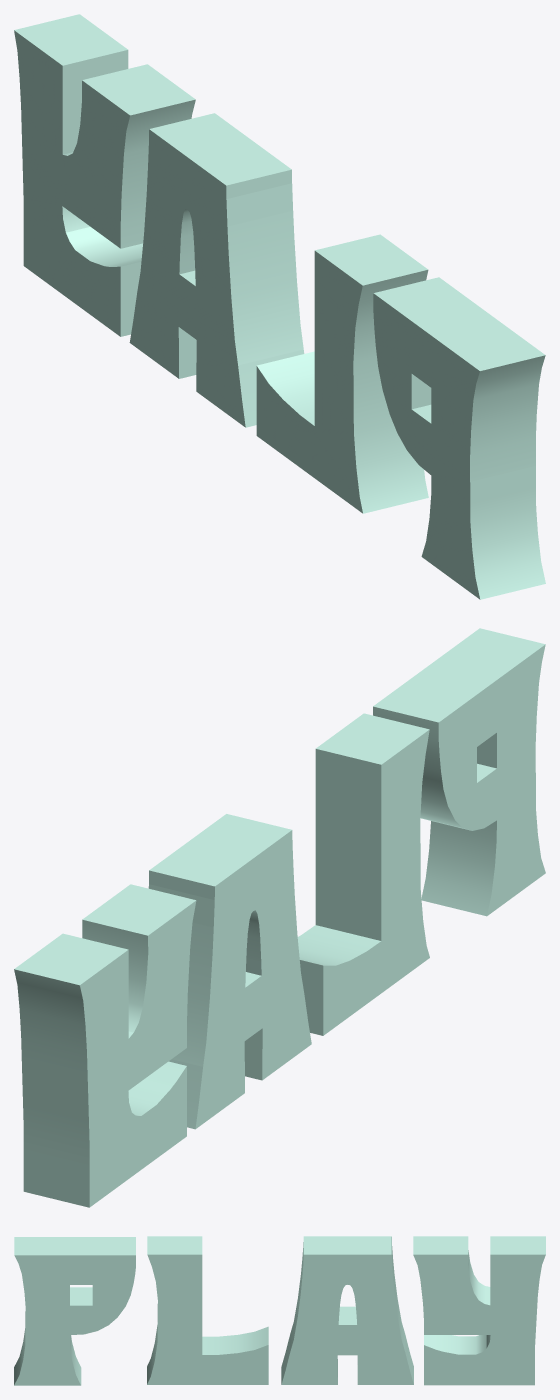
The model's file is Play(Button).fbx.
3 renders of one model, top to bottom at view 1: azimuth 30°, elevation 25°; view 2: azimuth 150°, elevation 25°; view 3: azimuth 270°, elevation 25°, orthographic. The views are drawn at different scales.
Parts seen in each view (by area): view 1: Play; view 2: Play; view 3: Play.
Part boxes in pixels (x1,y1,x2,y2): Play: (14, 14, 545, 599); Play: (14, 628, 545, 1207); Play: (14, 1236, 545, 1385).
Bounding box in the file's own units: 50.62 × 167 × 614.
